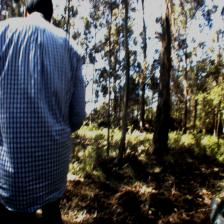trunktrack_idkeyframe: (149, 39, 172, 145), (114, 54, 129, 162)
